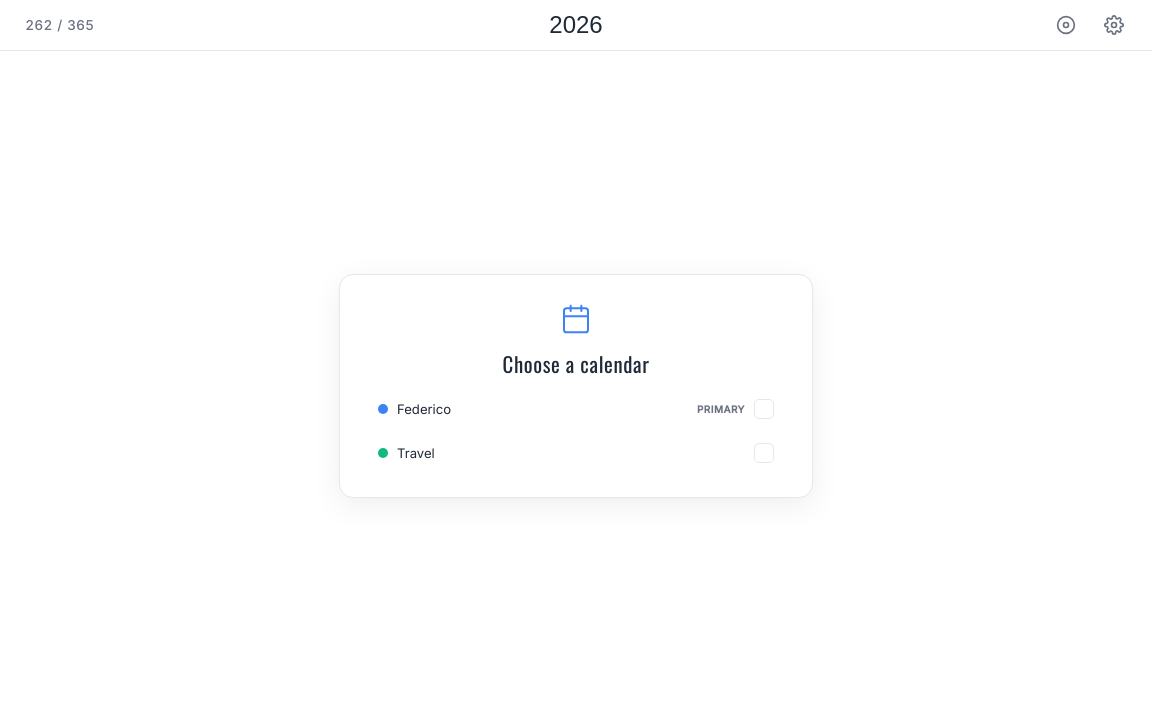
Test: Calendy read-only planner › saves the picked calendar and renders the year
This screenshot has width=1152, height=714.
Click the button "Travel": (416, 452) [366,432,786,472]
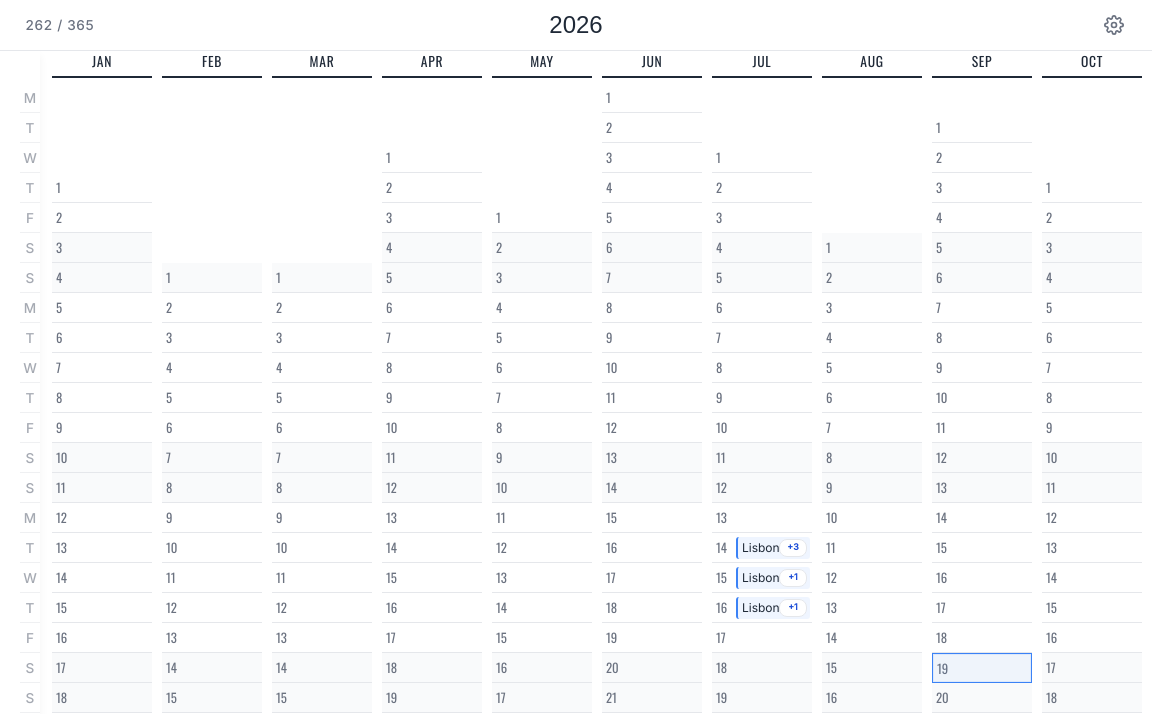
Check: the text "Jul" is shown, box [752,51,771,71]
